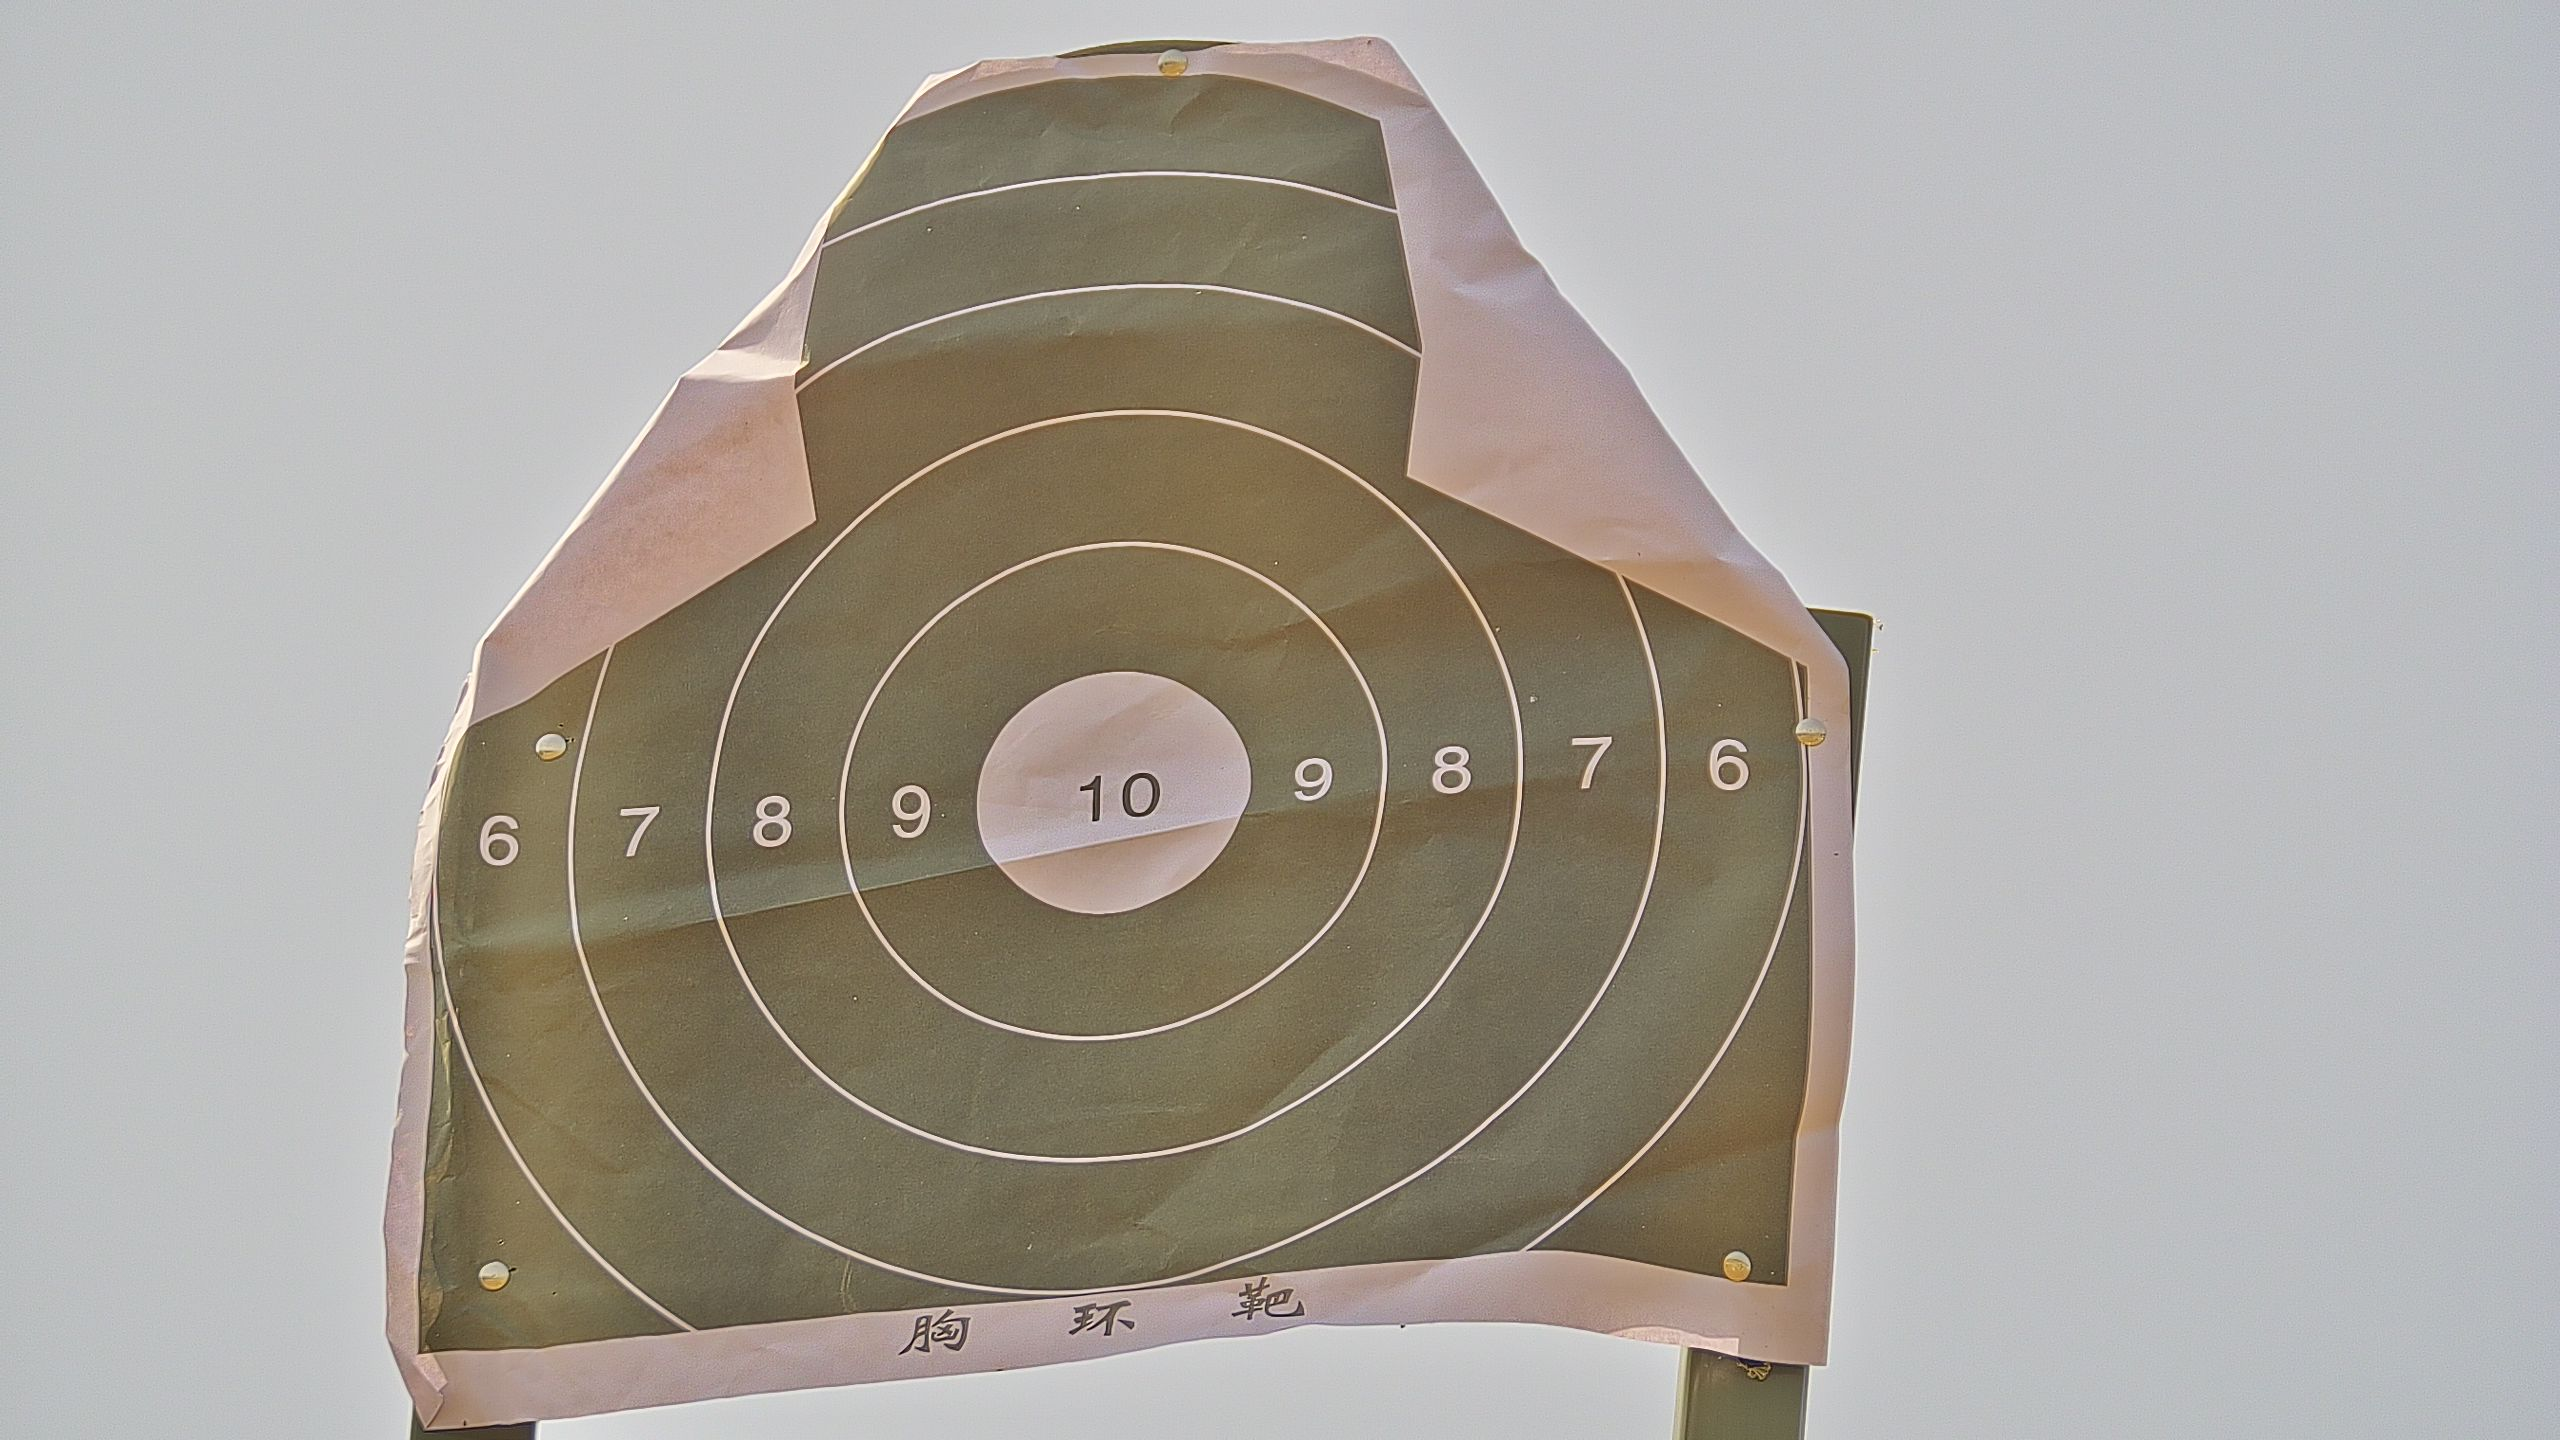kernel: (1108, 795, 1111, 800)
target: (411, 84, 1825, 1354)
ten: (972, 673, 1254, 918)
